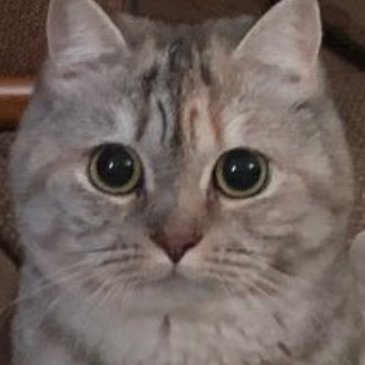cat: (3, 2, 363, 365)
cat-face: (3, 2, 363, 320)
